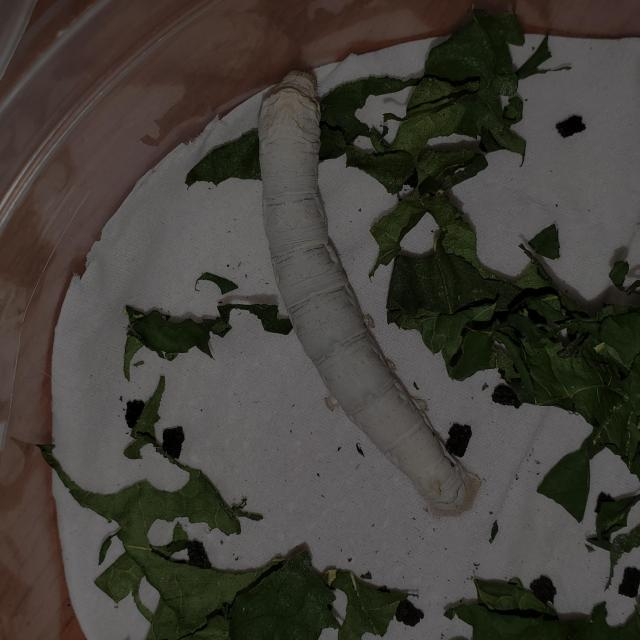Healthy: (217, 32, 522, 544)
